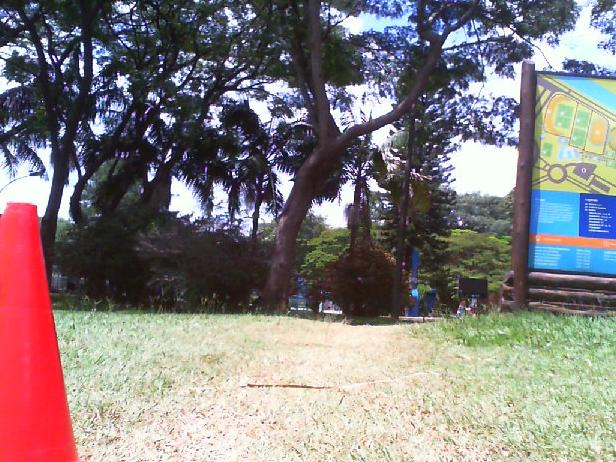0 cone: (0, 201, 92, 462)
